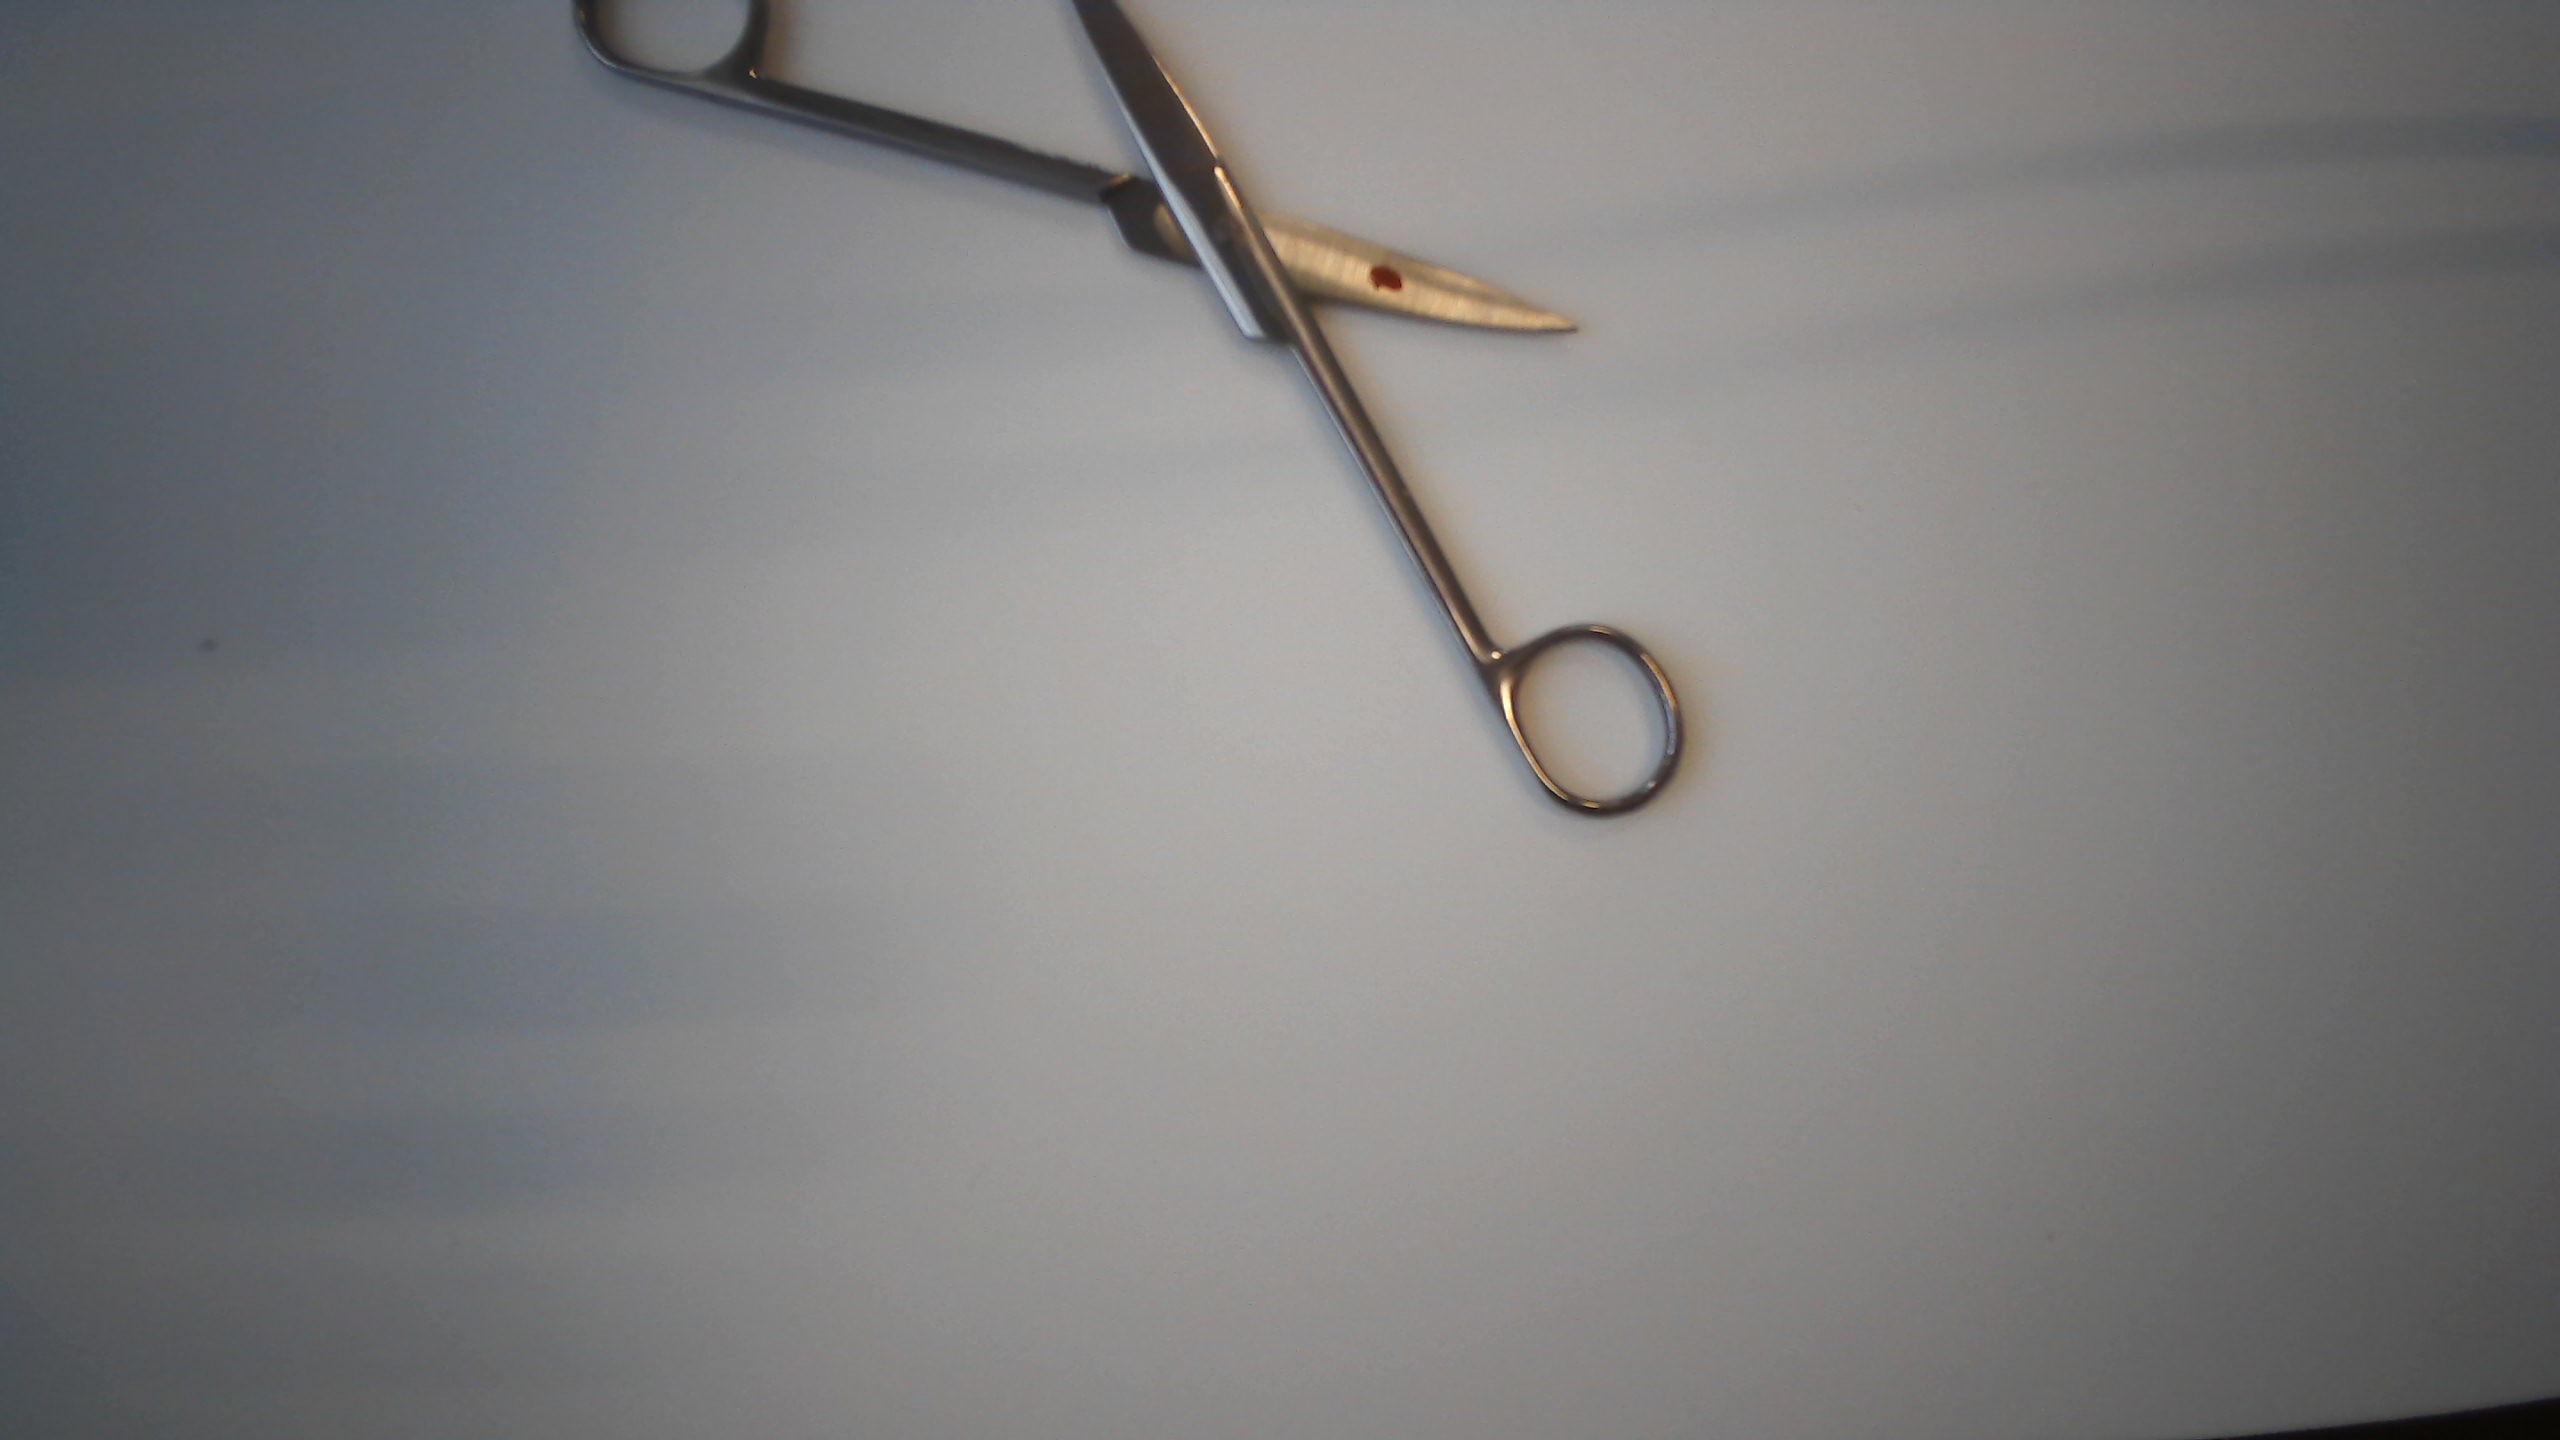Stain: (1361, 258, 1419, 295)
